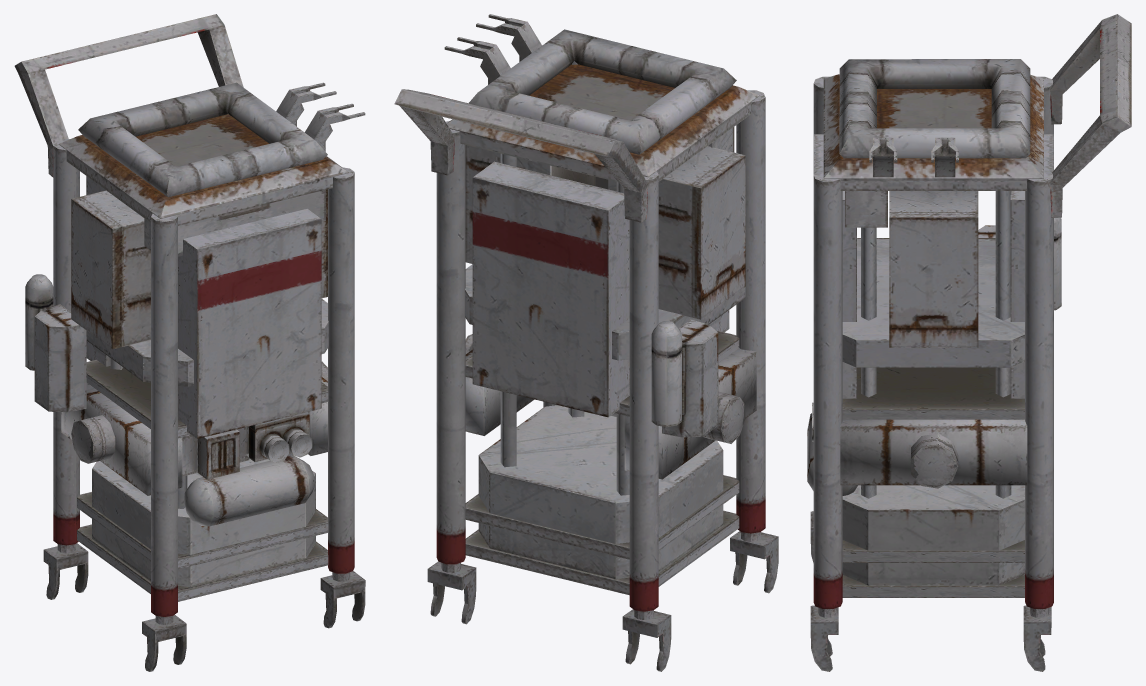
The model's file is multitool_trolley_ark_room.DAE.
The picture shows the model from 3 angles, left to right: view 1: azimuth 30°, elevation 25°; view 2: azimuth 150°, elevation 25°; view 3: azimuth 270°, elevation 25°; orthographic projection. The views are drawn at different scales.
Parts seen in each view (by area): view 1: multitool_trolley_ark_room; view 2: multitool_trolley_ark_room; view 3: multitool_trolley_ark_room.
Boxes of the visible parts, x1,y1,x2,y2 form: multitool_trolley_ark_room: [14, 14, 365, 671]; multitool_trolley_ark_room: [394, 14, 778, 671]; multitool_trolley_ark_room: [807, 14, 1131, 671].
Size of the model in its own units: 0.8754 by 1.62 by 0.8651.
